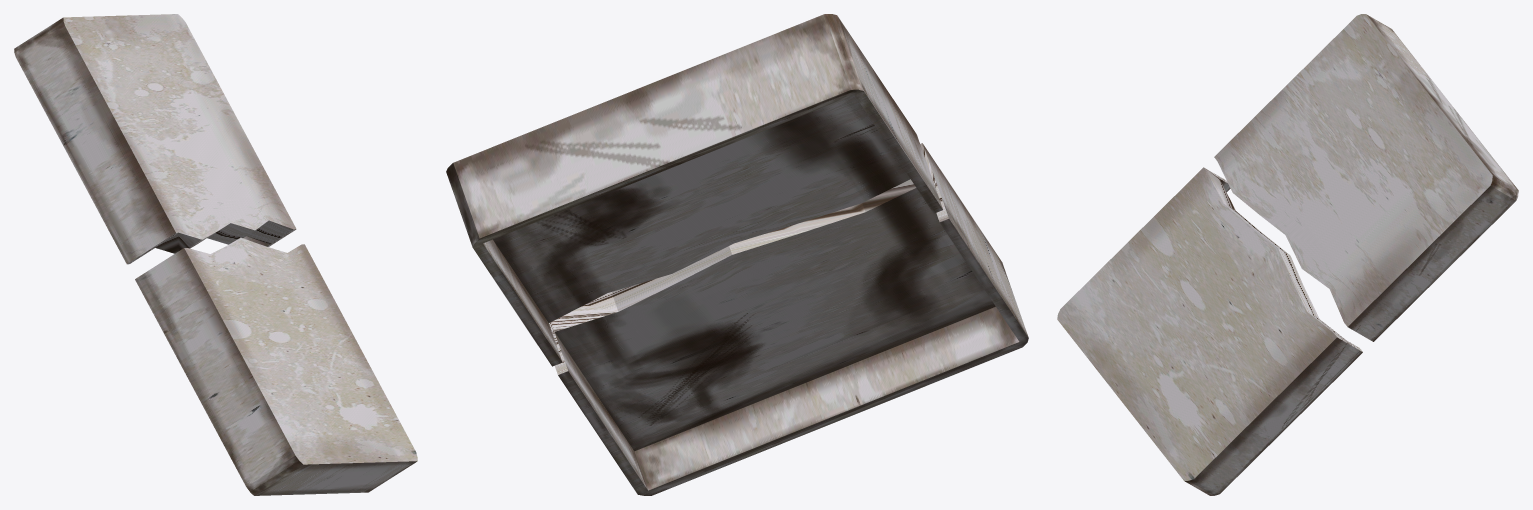
File: inverter shattered frame1.glb
The picture shows the model from 3 angles, left to right: view 1: azimuth 30°, elevation 25°; view 2: azimuth 150°, elevation 25°; view 3: azimuth 270°, elevation 25°; orthographic projection. The views are drawn at different scales.
Visible parts, largest first — view 1: inverter shattered frame_2, inverter shattered frame_1; view 2: inverter shattered frame_2, inverter shattered frame_1; view 3: inverter shattered frame_1, inverter shattered frame_2.
Part boxes in pixels (x1,y1,x2,y2): inverter shattered frame_2: (135,237,417,495); inverter shattered frame_1: (14,14,296,264); inverter shattered frame_2: (549,143,1028,495); inverter shattered frame_1: (446,14,942,366); inverter shattered frame_1: (1214,14,1518,341); inverter shattered frame_2: (1057,167,1362,495).
Size of the model in its own units: 1.96 by 2.98 by 3.18.
1 material, 1 textured.
